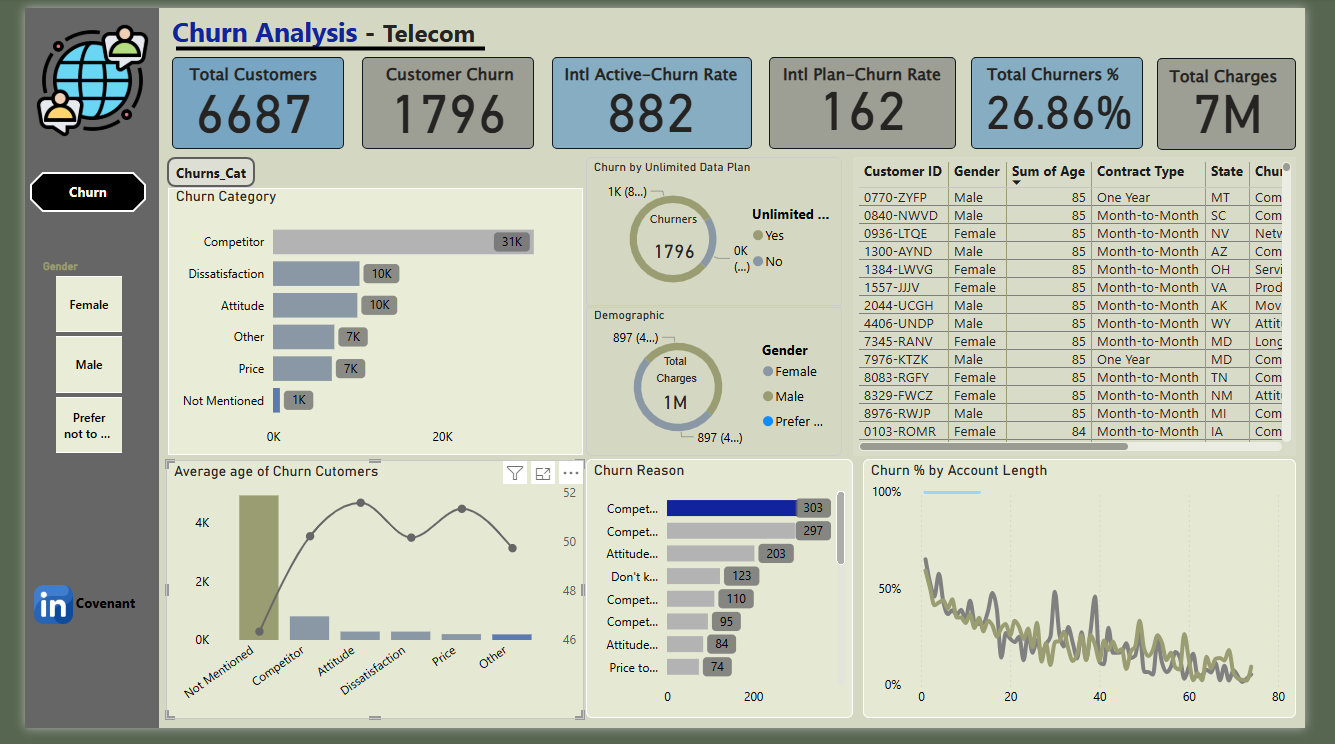

This screenshot's page, from the dashboard's own definition file:
{"tool":"powerbi","page":{"name":"Churn","canvas":[1280,720],"ordinal":0},"visuals":[{"type":"shape","box":[0,0,134.4,720],"z":0},{"type":"actionButton","title":"Churns_cat","box":[142.4,149.3,88.4,30.5],"z":1000,"group":"g1"},{"type":"clusteredBarChart","title":" Churn Category","fields":{"Category":["Vertex Mobile Net - Data.Churn Category"],"Y":["Sum(Vertex Mobile Net - Data.Monthly Charge)"]},"box":[145.8,180,409.6,267],"z":1000,"group":"g2"},{"type":"shape","box":[142.6,180.2,415.3,267],"z":1000},{"type":"shape","box":[146.7,48.9,172.2,92.2],"z":2000},{"type":"card","fields":{"Values":["CountNonNull(Vertex Mobile Net - Data.Customer ID)"]},"box":[161.1,48.9,134.4,100],"z":3000},{"type":"textbox","box":[146.7,48.9,163.3,35.6],"z":4000},{"type":"shape","box":[336.7,48.9,172.2,92.2],"z":5000},{"type":"shape","box":[526.7,48.9,200,92.2],"z":6000},{"type":"card","fields":{"Values":["CountNonNull(Vertex Mobile Net - Data.Customer ID)"]},"box":[355.6,48.9,134.4,100],"z":7000},{"type":"textbox","box":[355.6,48.9,171.1,35.6],"z":8000},{"type":"card","fields":{"Values":["CountNonNull(Vertex Mobile Net - Data.Intl Active)"]},"box":[548.9,52.2,154.4,92.2],"z":9000},{"type":"shape","box":[744.4,48.9,186.7,92.2],"z":10000},{"type":"shape","box":[945.6,48.9,172.2,92.2],"z":11000},{"type":"card","fields":{"Values":["CountNonNull(Vertex Mobile Net - Data.Intl Plan)"]},"box":[762.2,48.9,150,94.4],"z":12000},{"type":"card","fields":{"Values":["Vertex Mobile Net - Data.Churn %"]},"box":[954.4,64.4,160,68.9],"z":13000},{"type":"textbox","box":[522.2,48.9,207.8,45.6],"z":14000},{"type":"shape","box":[1132.2,50,138.9,92.2],"z":15000},{"type":"textbox","box":[734.4,48.9,205.6,41.1],"z":16000},{"type":"textbox","box":[945.6,48.9,163.3,42.2],"z":17000},{"type":"card","fields":{"Values":["Sum(Vertex Mobile Net - Data.Total Charges)"]},"box":[1145.6,60,113.3,77.8],"z":18000},{"type":"textbox","box":[1116.7,51.1,163.3,40],"z":19000},{"type":"donutChart","title":"Demographic","fields":{"Category":["Vertex Mobile Net - Data.Gender"],"Y":["CountNonNull(Vertex Mobile Net - Data.Customer ID)"]},"box":[561.2,296.9,256.2,151.2],"z":20000},{"type":"card","fields":{"Values":["Vertex Mobile Net - Data.numbers of Churn"]},"box":[599.3,210.8,100,66.7],"z":21000,"group":"g3"},{"type":"lineStackedColumnComboChart","title":"Average age of Churn Cutomers","fields":{"Category":["Vertex Mobile Net - Data.Churn Category"],"Y2":["Avg(Vertex Mobile Net - Data.Age)"],"Y":["CountNonNull(Vertex Mobile Net - Data.Customer ID)"]},"box":[141.2,451.7,417.3,258.9],"z":21000},{"type":"donutChart","title":"Churn by Unlimited Data Plan","fields":{"Y":["Vertex Mobile Net - Data.numbers of Churn"],"Category":["Vertex Mobile Net - Data.Unlimited Data Plan"]},"box":[561.2,149.4,256.2,150.3],"z":22000},{"type":"textbox","box":[610.4,196.4,76.7,41.1],"z":22000,"group":"g3"},{"type":"group","id":"g1","title":"Catactive","box":[142.4,149.3,180.8,30.5],"z":24000},{"type":"group","id":"g2","title":"Group 1","box":[145.8,180,412.7,272.2],"z":25000},{"type":"card","fields":{"Values":["Sum(Vertex Mobile Net - Data.Total Charges)"]},"box":[610.1,380.2,79.7,25.3],"z":26000},{"type":"group","id":"g3","title":"Group 2","box":[599.3,196.4,100.5,80.6],"z":27000},{"type":"textbox","box":[582.1,337.7,135.8,69.7],"z":28000},{"type":"textbox","box":[142.2,0,334.5,49.2],"z":29000},{"type":"shape","box":[151,16.7,309.1,47.4],"z":30000},{"type":"clusteredBarChart","title":"Churn Reason","fields":{"Category":["Vertex Mobile Net - Data.Churn Reason"],"Y":["CountNonNull(Vertex Mobile Net - Data.Customer ID)"]},"box":[561.1,451.1,266.7,258.9],"z":31000},{"type":"tableEx","fields":{"Values":["Vertex Mobile Net - Data.Customer ID","Vertex Mobile Net - Data.Gender","Sum(Vertex Mobile Net - Data.Age)","Vertex Mobile Net - Data.Contract Type","Vertex Mobile Net - Data.State","Vertex Mobile Net - Data.Churn Reason"]},"box":[827.8,148.9,443.3,298.9],"z":32000},{"type":"lineChart","title":"Churn % by Account Length","fields":{"Y":["Vertex Mobile Net - Data.Churn %"],"Category":["Vertex Mobile Net - Data.Account Length (in months)"],"Series":["Vertex Mobile Net - Data.Gender"]},"box":[837.8,451.1,433.3,258.9],"z":33000},{"type":"shape","box":[5.3,164.2,115.9,39.5],"z":34000},{"type":"slicer","fields":{"Values":["Vertex Mobile Net - Data.Gender"]},"box":[5.3,246.7,115.9,205.5],"z":37000},{"type":"image","box":[1.8,572.5,52.7,48.3],"z":39000},{"type":"image","box":[5.3,2.6,124.7,139.6],"z":40001},{"type":"textbox","box":[39.5,581.3,81.7,32.5],"z":40002}]}

Visuals, with their boxes in screenshot pixels (x1, y1, x2, y2), scaled from the page's 1280x720 canvas onto the 1335x744 screenshot:
shape: (0,0,140,743)
"Churns_cat" actionButton: (149,154,241,186)
" Churn Category" clusteredBarChart: (152,186,579,462)
shape: (149,186,582,462)
shape: (153,51,333,146)
card - CountNonNull(Vertex Mobile Net - Data.Customer ID): (168,51,308,154)
textbox: (153,51,323,87)
shape: (351,51,531,146)
shape: (549,51,758,146)
card - CountNonNull(Vertex Mobile Net - Data.Customer ID): (371,51,511,154)
textbox: (371,51,549,87)
card - CountNonNull(Vertex Mobile Net - Data.Intl Active): (572,54,734,149)
shape: (776,51,971,146)
shape: (986,51,1166,146)
card - CountNonNull(Vertex Mobile Net - Data.Intl Plan): (795,51,951,148)
card - Vertex Mobile Net - Data.Churn %: (995,67,1162,138)
textbox: (545,51,761,98)
shape: (1181,52,1326,147)
textbox: (766,51,980,93)
textbox: (986,51,1157,94)
card - Sum(Vertex Mobile Net - Data.Total Charges): (1195,62,1313,142)
textbox: (1165,53,1334,94)
"Demographic" donutChart: (585,307,853,463)
card - Vertex Mobile Net - Data.numbers of Churn: (625,218,729,287)
"Average age of Churn Cutomers" lineStackedColumnComboChart: (147,467,582,734)
"Churn by Unlimited Data Plan" donutChart: (585,154,853,310)
textbox: (637,203,717,245)
"Catactive" group: (149,154,337,186)
"Group 1" group: (152,186,582,467)
card - Sum(Vertex Mobile Net - Data.Total Charges): (636,393,719,419)
"Group 2" group: (625,203,730,286)
textbox: (607,349,749,421)
textbox: (148,0,497,51)
shape: (157,17,480,66)
"Churn Reason" clusteredBarChart: (585,466,863,734)
tableEx - Vertex Mobile Net - Data.Customer ID x Vertex Mobile Net - Data.Gender: (863,154,1326,463)
"Churn % by Account Length" lineChart: (874,466,1326,734)
shape: (6,170,126,210)
slicer - Vertex Mobile Net - Data.Gender: (6,255,126,467)
image: (2,592,57,641)
image: (6,3,136,147)
textbox: (41,601,126,634)
